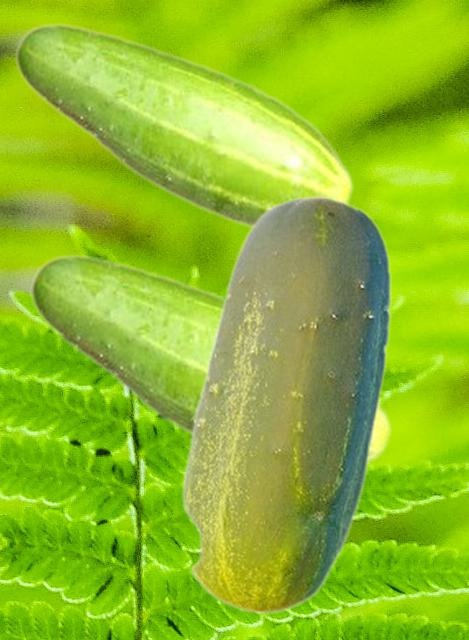cucumber: (180, 194, 390, 614), (29, 253, 392, 466), (14, 22, 354, 231)
